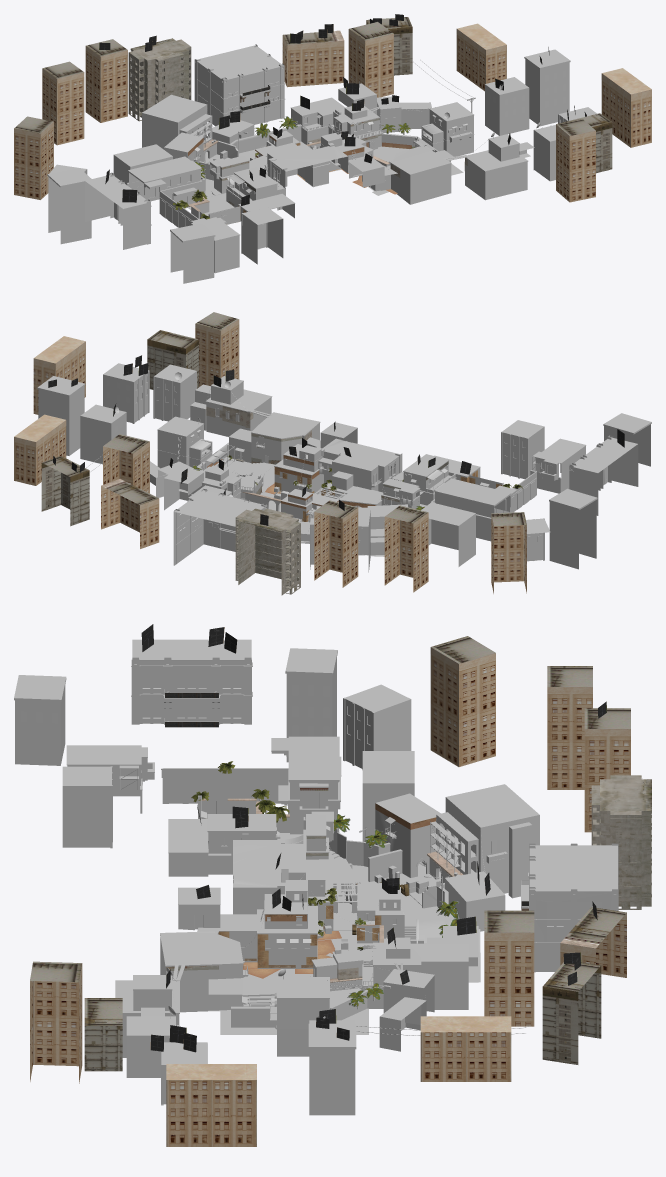
The picture shows the model from 3 angles, top to bottom: view 1: azimuth 30°, elevation 25°; view 2: azimuth 150°, elevation 25°; view 3: azimuth 270°, elevation 25°; orthographic projection. The views are drawn at different scales.
Visible parts, largest first — view 1: 1_Sandstone_d2_0, Sandyards, 1_wall1_0, 1_Material #19859_0, D; view 2: 1_Sandstone_d2_0, 1_wall1_0, Sandyards, 1_Material #19859_0, D; view 3: 1_Sandstone_d2_0, Sandyards, 1_wall1_0, 1_Material #19859_0, D.
Part boxes in pixels (x1=…): 1_Sandstone_d2_0: x1=14, y1=17, x2=651, y2=202; Sandyards: x1=114, y1=60, x2=565, y2=230; 1_wall1_0: x1=47, y1=44, x2=555, y2=273; 1_Material #19859_0: x1=47, y1=49, x2=597, y2=283; D: x1=99, y1=14, x2=586, y2=219; 1_Sandstone_d2_0: x1=14, y1=312, x2=526, y2=595; 1_wall1_0: x1=150, y1=364, x2=638, y2=580; Sandyards: x1=86, y1=372, x2=628, y2=564; 1_Material #19859_0: x1=37, y1=363, x2=651, y2=569; D: x1=48, y1=355, x2=624, y2=525; 1_Sandstone_d2_0: x1=30, y1=636, x2=651, y2=1146; Sandyards: x1=21, y1=669, x2=601, y2=1035; 1_wall1_0: x1=62, y1=639, x2=618, y2=1077; 1_Material #19859_0: x1=14, y1=648, x2=478, y2=1115; D: x1=141, y1=624, x2=643, y2=1052.
Bounding box in the file's own units: 1.48 × 0.2528 × 0.9539.
